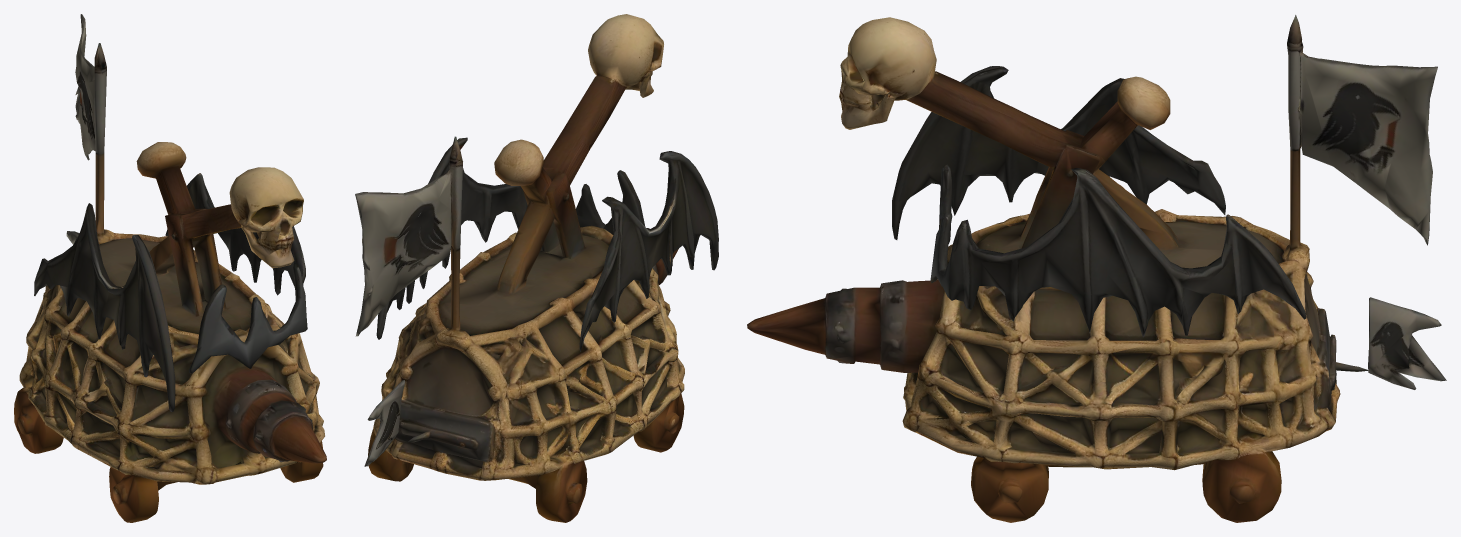
The picture shows the model from 3 angles, left to right: view 1: azimuth 30°, elevation 25°; view 2: azimuth 150°, elevation 25°; view 3: azimuth 270°, elevation 25°; orthographic projection. The views are drawn at different scales.
Visible parts, largest first — view 1: tripo_node_055b31ba-4d30-44c3-9750-297946be06c8; view 2: tripo_node_055b31ba-4d30-44c3-9750-297946be06c8; view 3: tripo_node_055b31ba-4d30-44c3-9750-297946be06c8.
Part boxes in pixels (x1=…): tripo_node_055b31ba-4d30-44c3-9750-297946be06c8: x1=14, y1=14, x2=326, y2=522; tripo_node_055b31ba-4d30-44c3-9750-297946be06c8: x1=355, y1=14, x2=718, y2=522; tripo_node_055b31ba-4d30-44c3-9750-297946be06c8: x1=747, y1=15, x2=1446, y2=522.
Bounding box in the file's own units: 0.4319 × 0.716 × 0.9996.
Materials: 1 (1 with a texture image).
